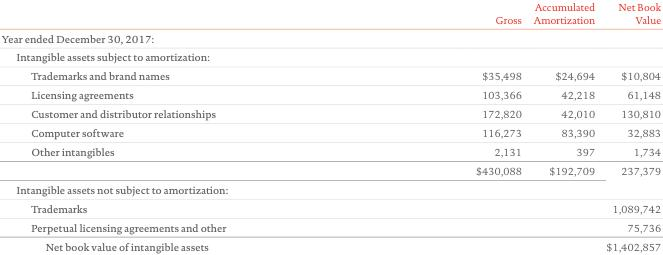table: (0, 0, 660, 252)
table column: (0, 0, 350, 252), (350, 0, 526, 252), (526, 0, 599, 252), (599, 0, 660, 252)
table column header: (0, 0, 660, 28)
table projected row header: (0, 28, 660, 47), (0, 47, 660, 66), (0, 179, 660, 198)
table row: (0, 0, 660, 28), (0, 28, 660, 47), (0, 47, 660, 66), (0, 66, 660, 85), (0, 85, 660, 104), (0, 104, 660, 123), (0, 141, 660, 160), (0, 160, 660, 179), (0, 179, 660, 198), (0, 198, 660, 217), (0, 217, 660, 236), (0, 123, 660, 141), (0, 236, 660, 252)
